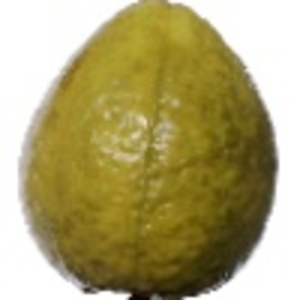goiaba: (18, 2, 281, 294)
